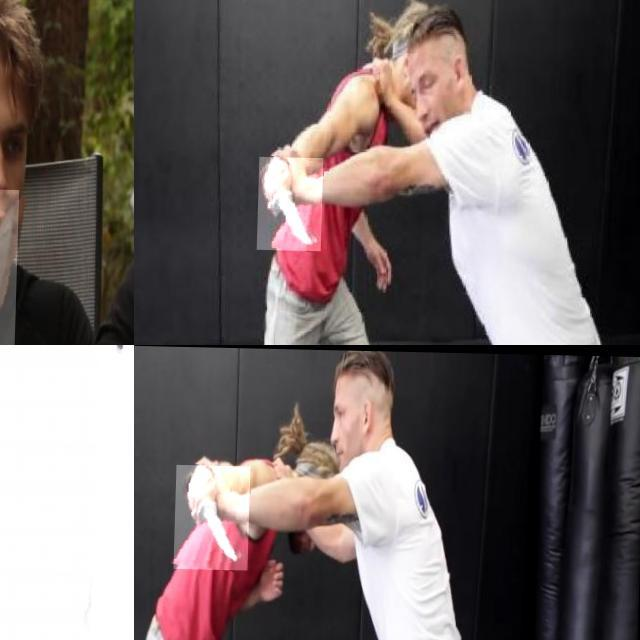-: (174, 464, 252, 570), (0, 187, 41, 345), (258, 156, 324, 250)
gun-knife-thesis - v11 Yolov5 augmented: (92, 345, 134, 640)
